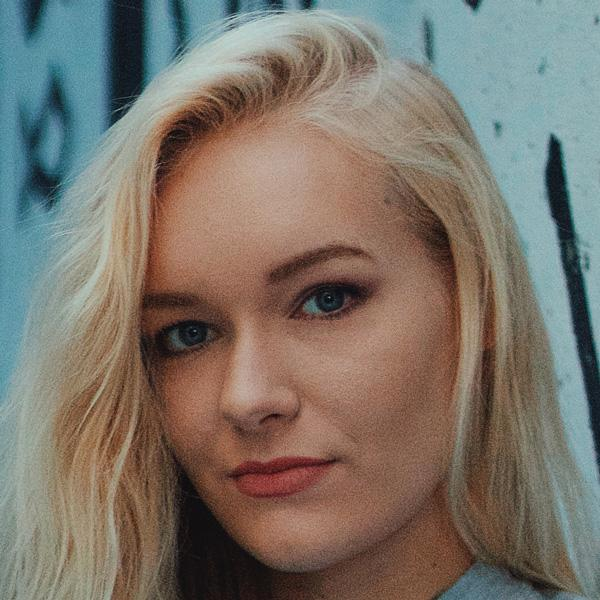Eyes: (275, 267, 381, 335), (142, 310, 230, 365)
